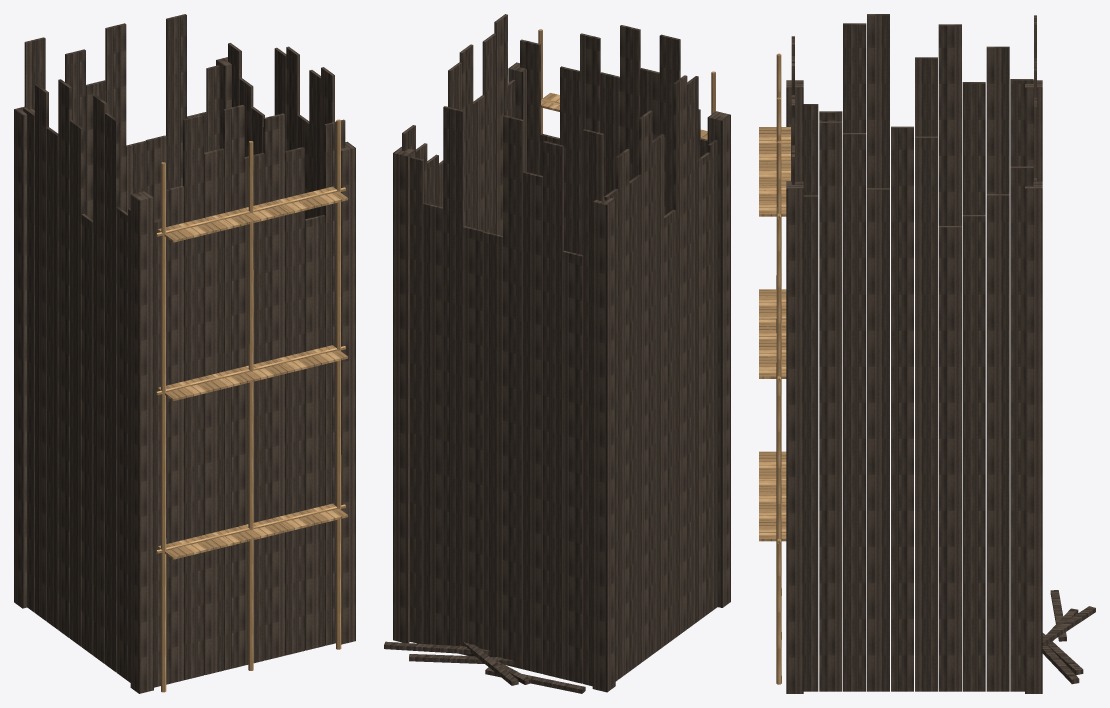
File: Tower_Rampart_Wood_Ruined_1.gltf
The picture shows the model from 3 angles, left to right: view 1: azimuth 30°, elevation 25°; view 2: azimuth 150°, elevation 25°; view 3: azimuth 270°, elevation 25°; orthographic projection. The views are drawn at different scales.
Visible parts, largest first — view 1: Tower_Rampart_Wood_Ruined_1; view 2: Tower_Rampart_Wood_Ruined_1; view 3: Tower_Rampart_Wood_Ruined_1.
Boxes of the visible parts, x1,y1,x2,y2 form: Tower_Rampart_Wood_Ruined_1: (14, 14, 355, 693); Tower_Rampart_Wood_Ruined_1: (384, 14, 730, 693); Tower_Rampart_Wood_Ruined_1: (759, 14, 1095, 693).
Size of the model in its own units: 6.44 by 15.91 by 8.46.
Materials: 2 (2 with a texture image).
